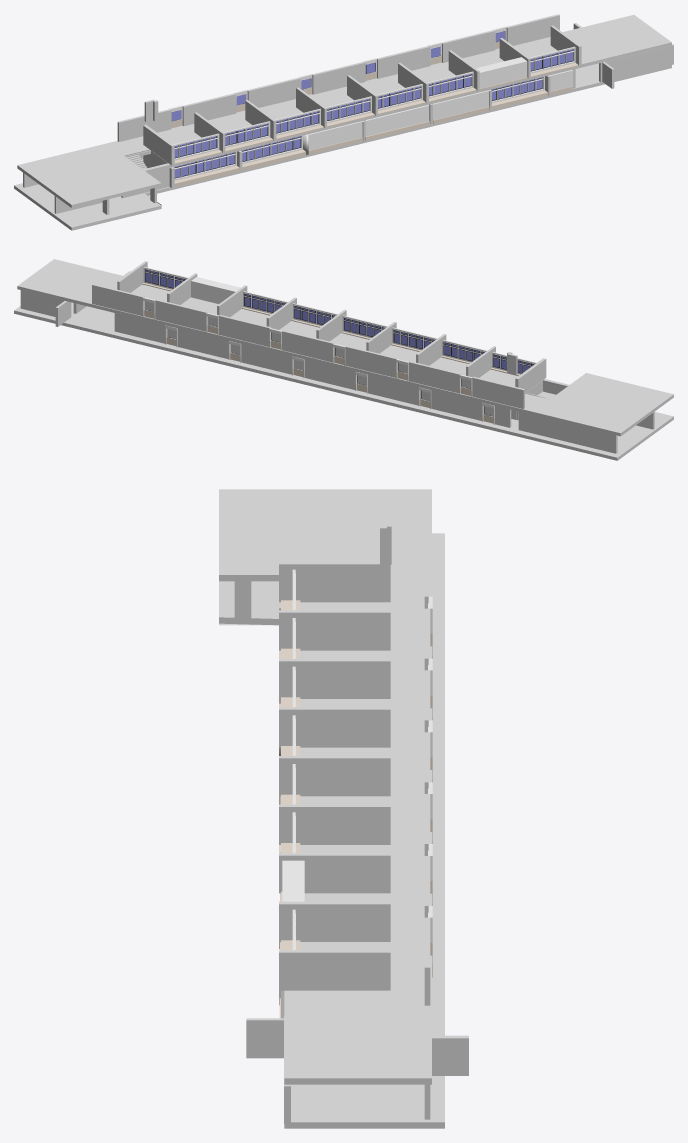
3 renders of one model, top to bottom at view 1: azimuth 30°, elevation 25°; view 2: azimuth 150°, elevation 25°; view 3: azimuth 270°, elevation 25°, orthographic. The views are drawn at different scales.
Visible parts, largest first — view 1: Cube.009, Cube.011, Window.010, Cube.081, Window.011, Window.015, CTRL_Hole.001, Cube.018, CTRL_Hole, Cube.014, Cube.016, Cube.015 (+23 smaller); view 2: Cube.009, Cube.011, Cube.019, Cube.015, Cube.018, Cube.014, Cube.016, Cube.013, Cube.017, Cube, Cube.003, Cube.070 (+25 smaller); view 3: Cube.009, Cube.011, Normale Wand.007, Dicke Wand, Normale Wand.006, Normale Wand.002, Normale Wand.004, Normale Wand, Normale Wand.003, Normale Wand.001, Normale Wand.005, Cube.082 (+2 smaller).
Boxes of the visible parts, bbox=[...] form: Cube.009: bbox=[17, 15, 671, 207]; Cube.011: bbox=[14, 63, 671, 230]; Window.010: bbox=[173, 151, 239, 187]; Cube.081: bbox=[599, 44, 673, 82]; Window.011: bbox=[241, 135, 305, 170]; Window.015: bbox=[491, 76, 547, 109]; CTRL_Hole.001: bbox=[364, 105, 429, 136]; Cube.018: bbox=[182, 93, 236, 126]; CTRL_Hole: bbox=[476, 57, 527, 88]; Cube.014: bbox=[442, 30, 495, 62]; Cube.016: bbox=[312, 61, 365, 94]; Cube.015: bbox=[377, 46, 430, 78]; Cube.009: bbox=[17, 259, 673, 436]; Cube.011: bbox=[14, 302, 673, 460]; Cube.019: bbox=[472, 376, 524, 408]; Cube.015: bbox=[218, 315, 271, 346]; Cube.018: bbox=[409, 361, 461, 393]; Cube.014: bbox=[155, 299, 207, 331]; Cube.016: bbox=[282, 330, 334, 362]; Cube.013: bbox=[92, 284, 144, 315]; Cube.017: bbox=[345, 346, 397, 377]; Cube: bbox=[114, 313, 165, 343]; Cube.003: bbox=[304, 359, 355, 389]; Cube.070: bbox=[518, 411, 569, 442]; Cube.009: bbox=[219, 489, 431, 1084]; Cube.011: bbox=[219, 533, 444, 1128]; Normale Wand.007: bbox=[279, 950, 390, 990]; Dicke Wand: bbox=[279, 561, 390, 602]; Normale Wand.006: bbox=[279, 901, 390, 941]; Normale Wand.002: bbox=[279, 707, 390, 747]; Normale Wand.004: bbox=[279, 804, 390, 844]; Normale Wand: bbox=[279, 610, 390, 650]; Normale Wand.003: bbox=[279, 756, 390, 796]; Normale Wand.001: bbox=[279, 659, 390, 698]; Normale Wand.005: bbox=[279, 853, 390, 893]; Cube.082: bbox=[246, 1018, 283, 1058].
Size of the model in its own units: 100 by 12.82 by 17.92.
